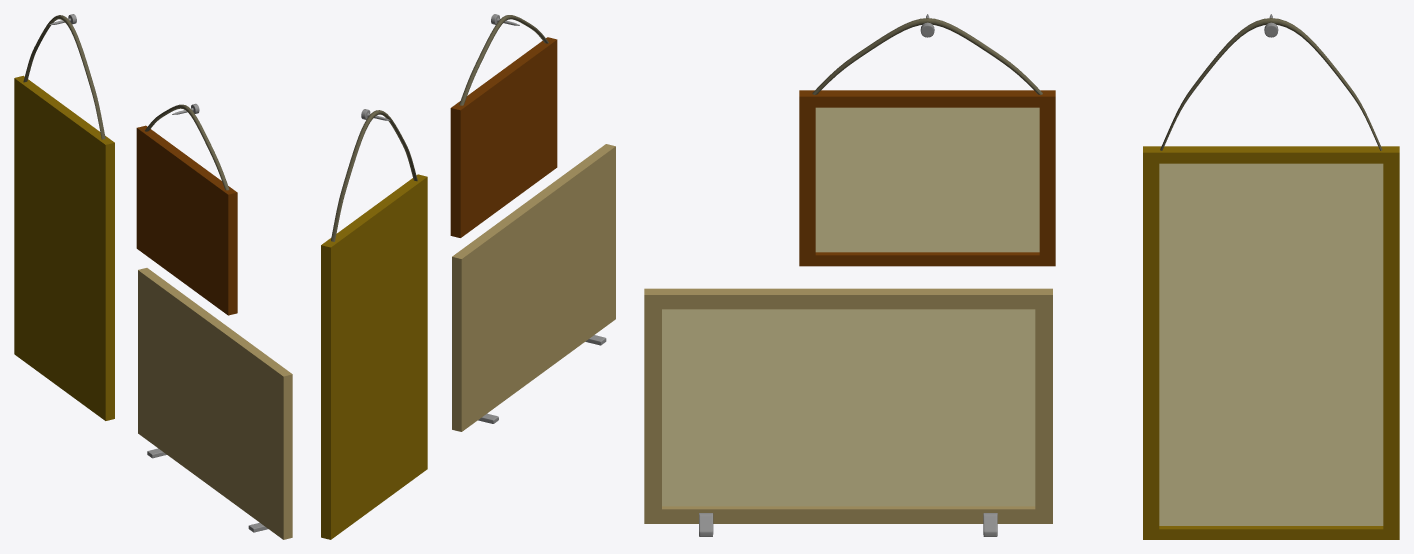
The model's file is cuadros.fbx.
The picture shows the model from 3 angles, left to right: view 1: azimuth 30°, elevation 25°; view 2: azimuth 150°, elevation 25°; view 3: azimuth 270°, elevation 25°; orthographic projection. The views are drawn at different scales.
Visible parts, largest first — view 1: Cube.003, Cube.010, Cube, Cube.005, Cube.002; view 2: Cube.003, Cube.010, Cube, Cube.005, Cube.002; view 3: Cube.007, Cube.011, Cube.006, Cube.010, Cube.003, Cube, Cube.005, Cube.002.
Part boxes in pixels (bbox=[...]): Cube.003: bbox=[14, 75, 114, 420]; Cube.010: bbox=[138, 268, 292, 539]; Cube: bbox=[136, 125, 237, 315]; Cube.005: bbox=[23, 15, 105, 139]; Cube.002: bbox=[145, 104, 229, 190]; Cube.003: bbox=[321, 174, 427, 539]; Cube.010: bbox=[452, 144, 615, 431]; Cube: bbox=[450, 37, 557, 237]; Cube.005: bbox=[331, 110, 417, 241]; Cube.002: bbox=[459, 15, 548, 105]; Cube.007: bbox=[1159, 163, 1383, 525]; Cube.011: bbox=[662, 309, 1035, 506]; Cube.006: bbox=[815, 107, 1039, 252]; Cube.010: bbox=[644, 288, 1052, 523]; Cube.003: bbox=[1143, 146, 1399, 539]; Cube: bbox=[799, 90, 1055, 266]; Cube.005: bbox=[1160, 18, 1382, 150]; Cube.002: bbox=[812, 18, 1042, 94].
Size of the model in its own units: 39.59 by 456 by 602.
